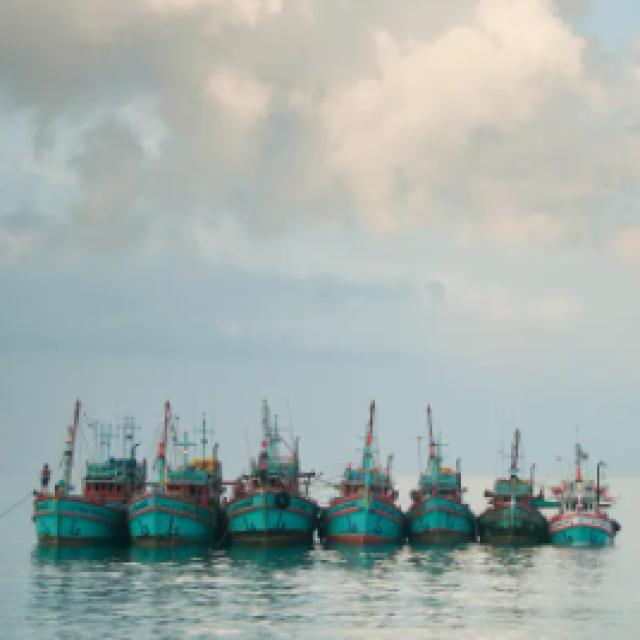fishing boat: (27, 403, 144, 545), (118, 393, 228, 541), (317, 400, 409, 551), (227, 396, 319, 542), (401, 404, 479, 544), (482, 421, 550, 548), (550, 436, 620, 548)
